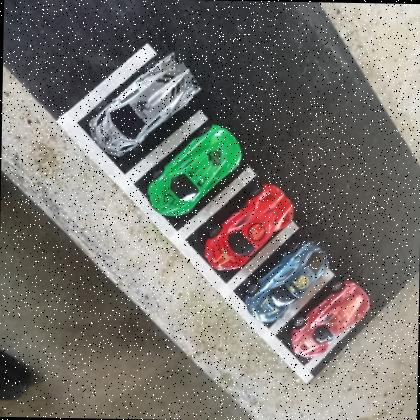Car: (88, 50, 201, 158), (146, 123, 242, 218), (203, 181, 294, 272), (245, 238, 328, 323), (291, 278, 370, 358)
